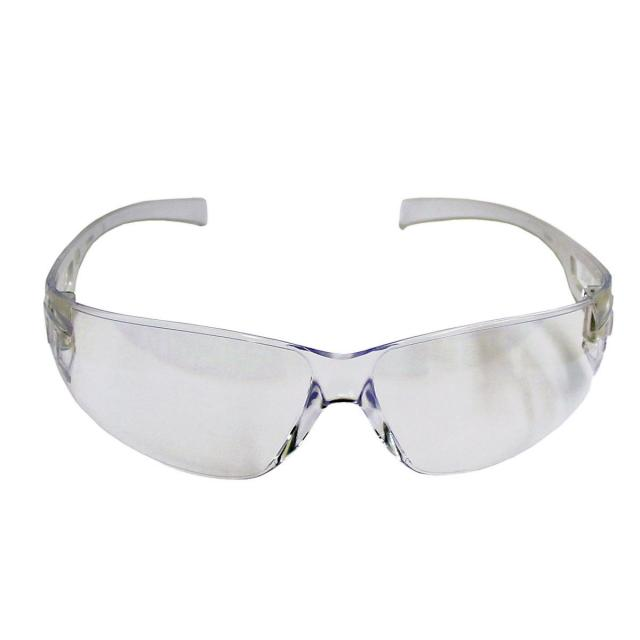Protective Glasses: (22, 170, 635, 492)
